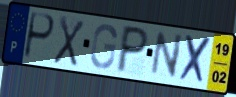G: (89, 23, 119, 71)
N: (148, 30, 185, 80)
P: (113, 23, 151, 74), (22, 10, 57, 61)
X: (178, 33, 214, 87), (51, 14, 86, 69)
